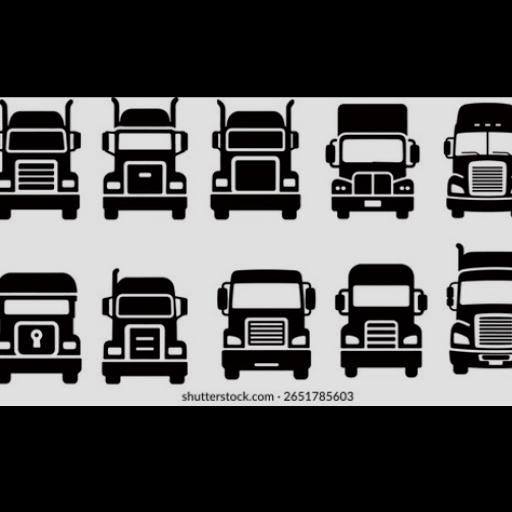truck: (98, 263, 192, 386), (324, 102, 421, 220), (98, 98, 190, 220), (332, 262, 429, 376), (210, 100, 302, 218), (218, 270, 318, 378), (0, 100, 82, 222), (0, 272, 82, 384), (446, 240, 512, 376), (442, 102, 512, 222)
